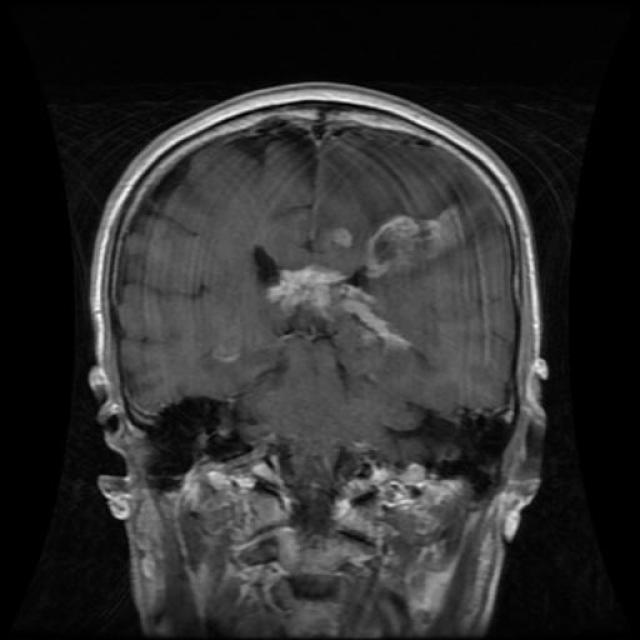glioma: (266, 261, 418, 351), (366, 204, 464, 278)
